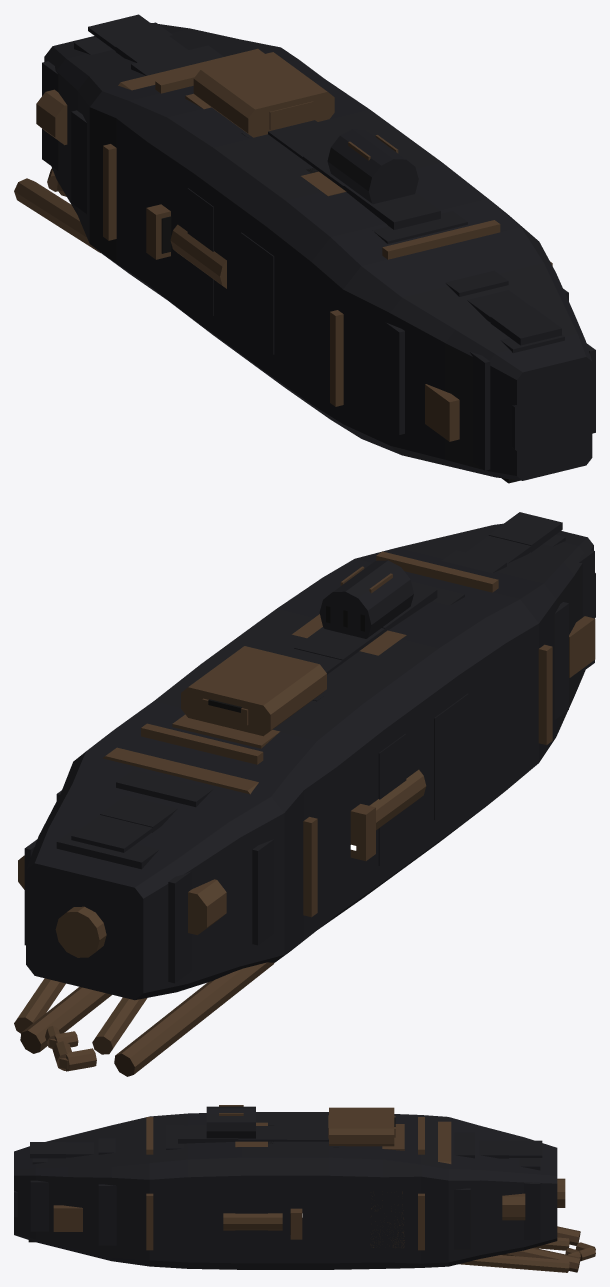
3 views of the same model, one above another, from view 1: azimuth 30°, elevation 25°; view 2: azimuth 150°, elevation 25°; view 3: azimuth 270°, elevation 25° (orthographic). The views are drawn at different scales.
Visible parts, largest first — view 1: RIMWARD_HULL; view 2: RIMWARD_HULL; view 3: RIMWARD_HULL.
Boxes of the visible parts, bbox=[...] form: RIMWARD_HULL: bbox=[14, 14, 595, 483]; RIMWARD_HULL: bbox=[14, 512, 595, 1076]; RIMWARD_HULL: bbox=[14, 1105, 595, 1272].
Size of the model in its own units: 3.16 by 3.44 by 11.78.
